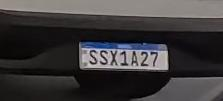Placa_mercosul_carro: (79, 42, 169, 71)
